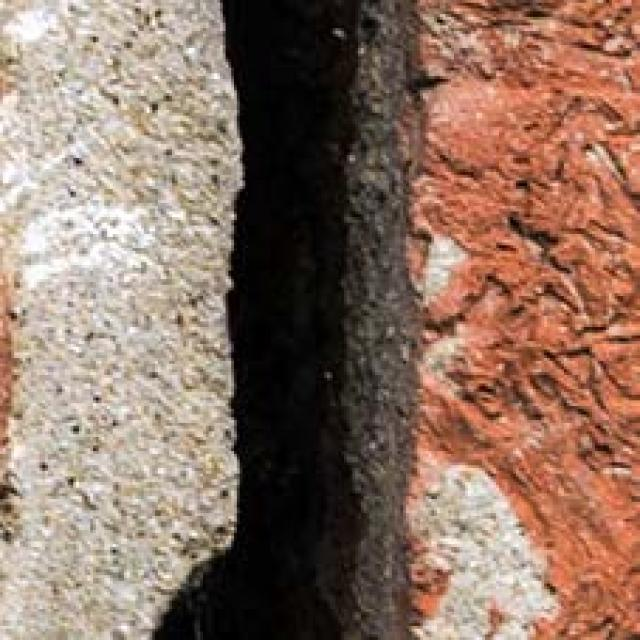Crack: (74, 0, 514, 640)
